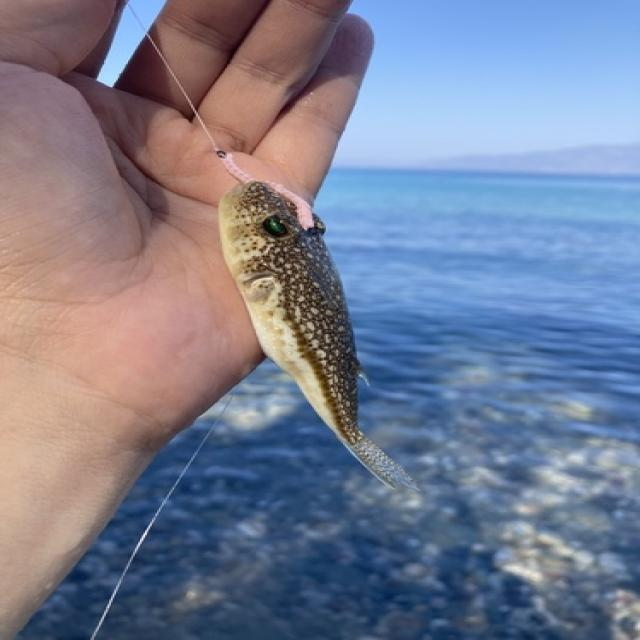Balik: (219, 182, 418, 490)
